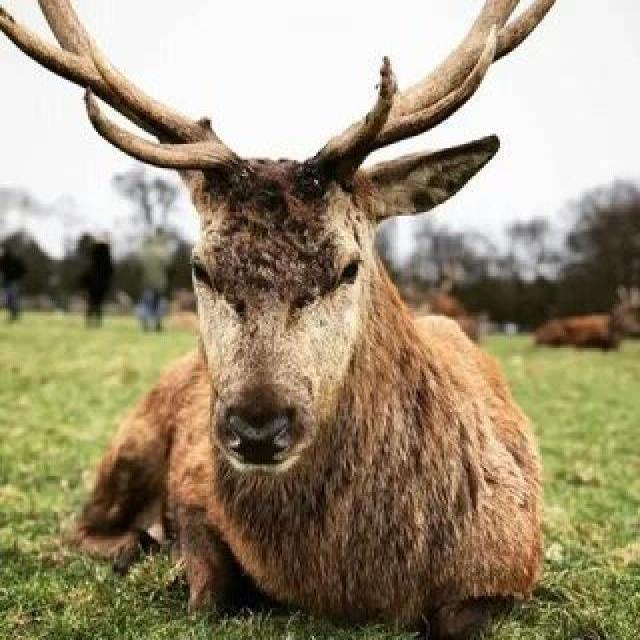deer: (46, 18, 546, 539)
